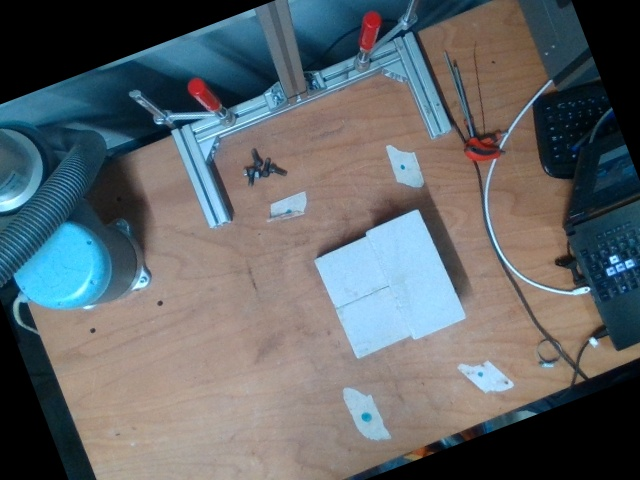brick: (365, 208, 467, 341)
